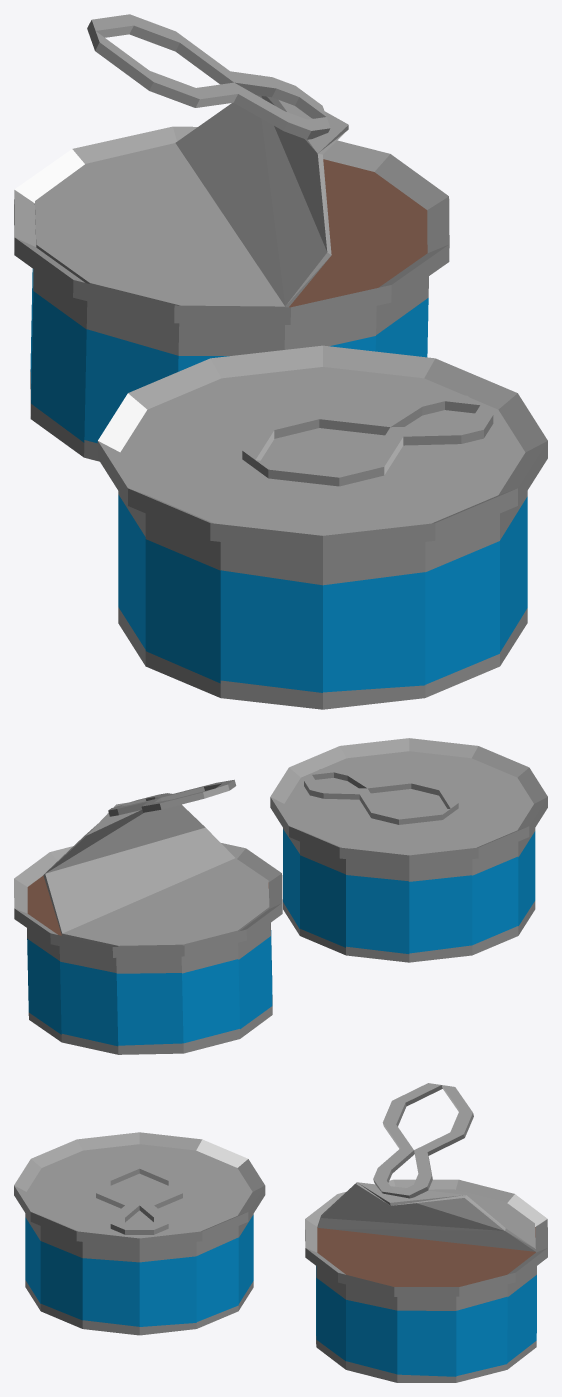
Rendered from Cat Food Cans _ closed, open.glb.
3 views of the same model, one above another, from view 1: azimuth 30°, elevation 25°; view 2: azimuth 150°, elevation 25°; view 3: azimuth 270°, elevation 25° (orthographic). The views are drawn at different scales.
Parts seen in each view (by area): view 1: group1343031588, group165027230, group558427750, group1945423103, group1010671563; view 2: group1343031588, group165027230, group558427750, group1945423103, group1010671563; view 3: group1343031588, group165027230, group558427750, group1010671563, group1945423103.
Part boxes in pixels (left/top/right/bottom): group1343031588: left=97, top=345, right=547, bottom=709; group165027230: left=14, top=126, right=449, bottom=461; group558427750: left=34, top=75, right=348, bottom=307; group1945423103: left=242, top=391, right=493, bottom=486; group1010671563: left=87, top=14, right=330, bottom=139; group1343031588: left=270, top=738, right=547, bottom=962; group165027230: left=14, top=843, right=282, bottom=1054; group558427750: left=43, top=802, right=269, bottom=946; group1945423103: left=304, top=766, right=458, bottom=824; group1010671563: left=108, top=779, right=236, bottom=816; group1343031588: left=14, top=1132, right=265, bottom=1335; group165027230: left=305, top=1179, right=547, bottom=1382; group558427750: left=317, top=1182, right=535, bottom=1251; group1010671563: left=373, top=1083, right=473, bottom=1198; group1945423103: left=96, top=1168, right=182, bottom=1234.
Bounding box in the file's own units: 0.9767 × 0.6674 × 1.47.
